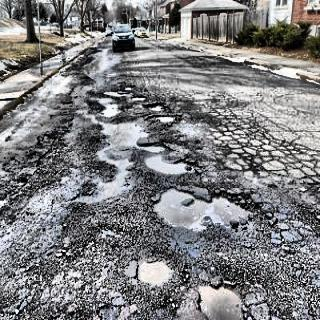alligator-crack: (193, 100, 320, 196)
crack: (68, 82, 205, 214), (151, 185, 259, 240), (190, 277, 252, 319), (130, 253, 178, 289)
